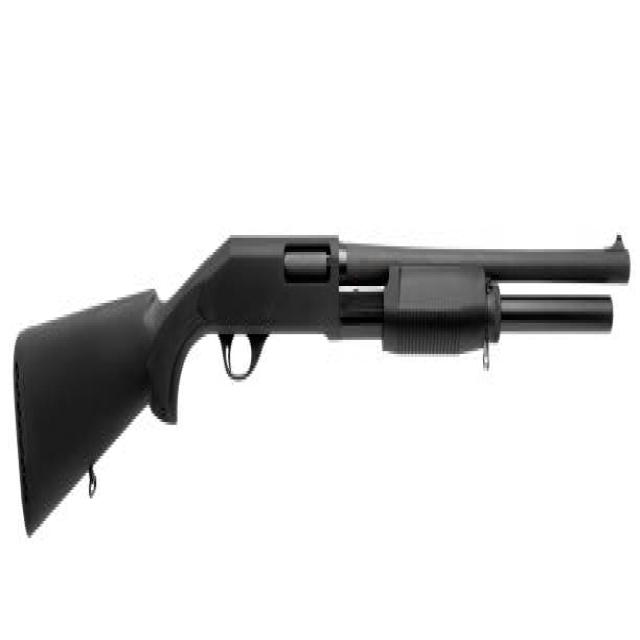rifle: (10, 213, 637, 552)
